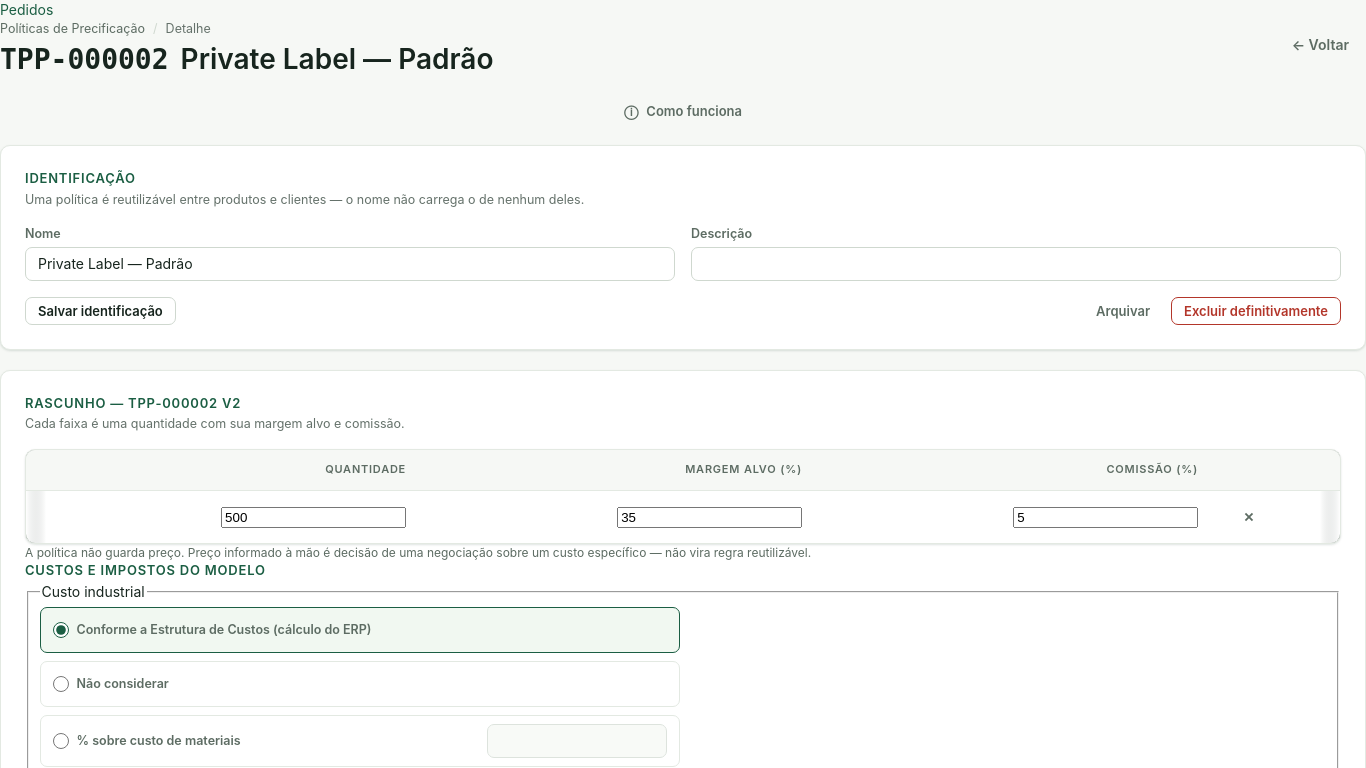
Test: Política de Precificação — guarda de alterações não salvas › política carregada e não tocada sai sem perguntar
Expected: the field labelled "Nome" holds "Private Label — Padrão", [25,247,675,281]
Click the link "Pedidos": (27, 10) [0,1,53,18]
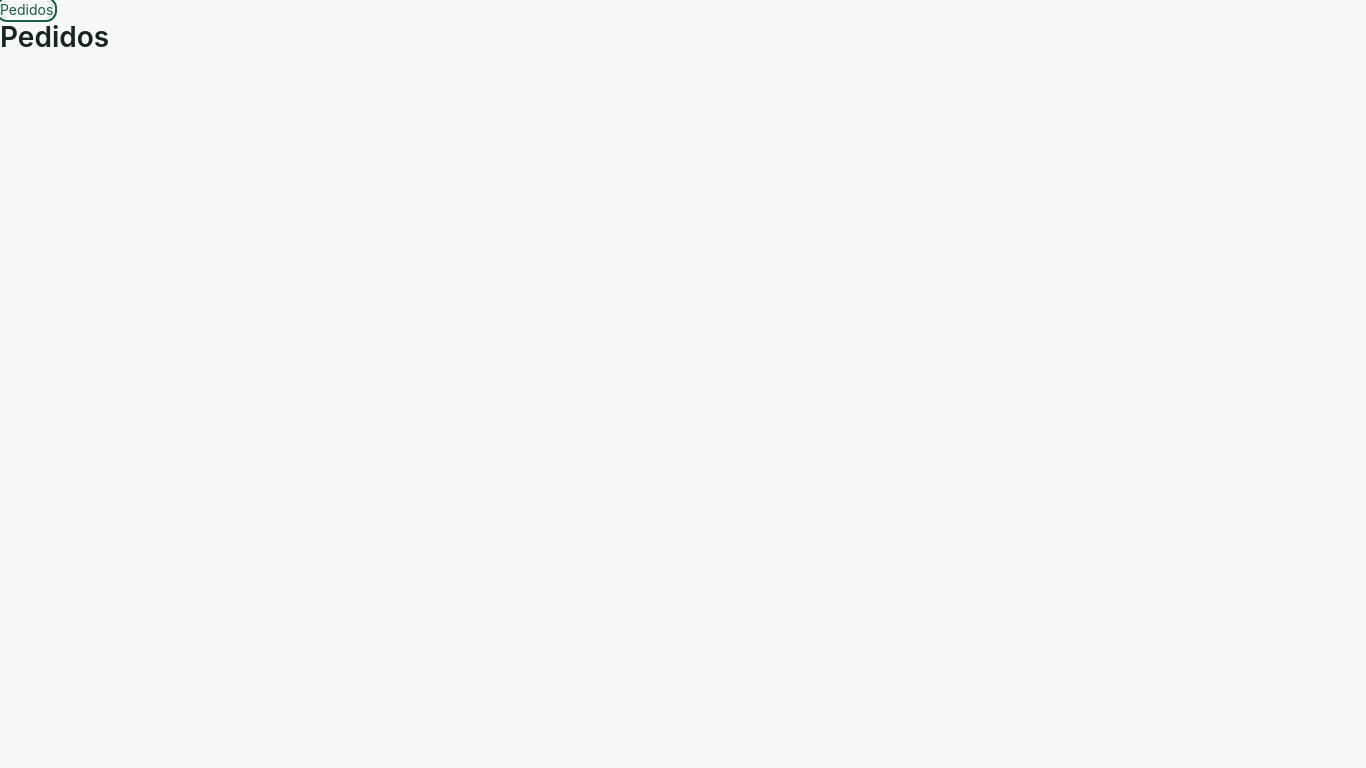
Now the heading "Pedidos" is shown, box [0,20,109,54]
